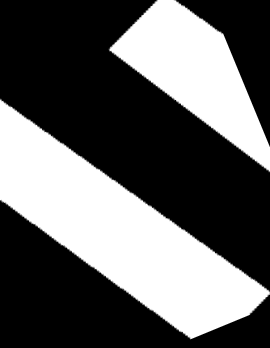parkingspot: (0, 99, 270, 339), (109, 0, 270, 172)
